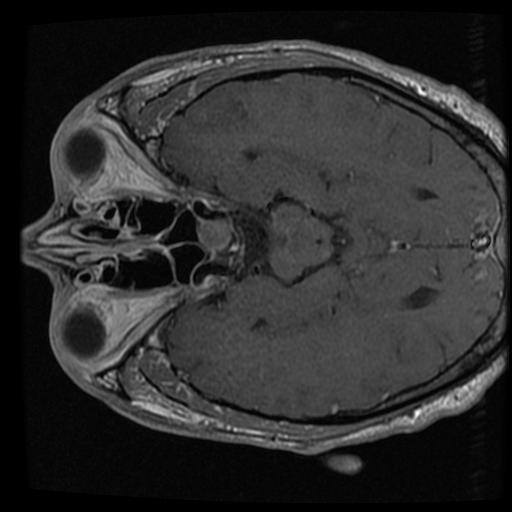pituitary tumour: (193, 217, 232, 255)
